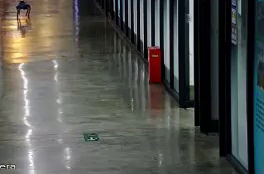robot dog: (13, 1, 32, 26)
